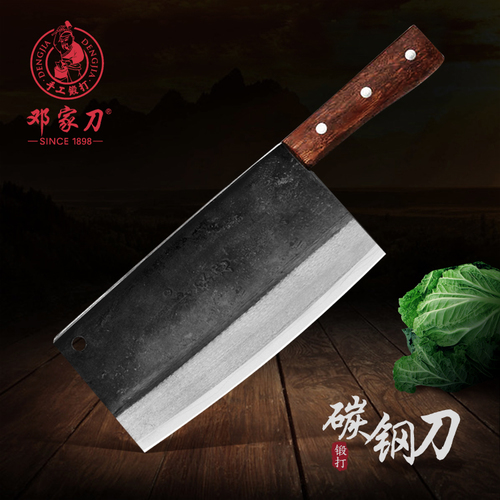knief: (79, 30, 436, 435)
